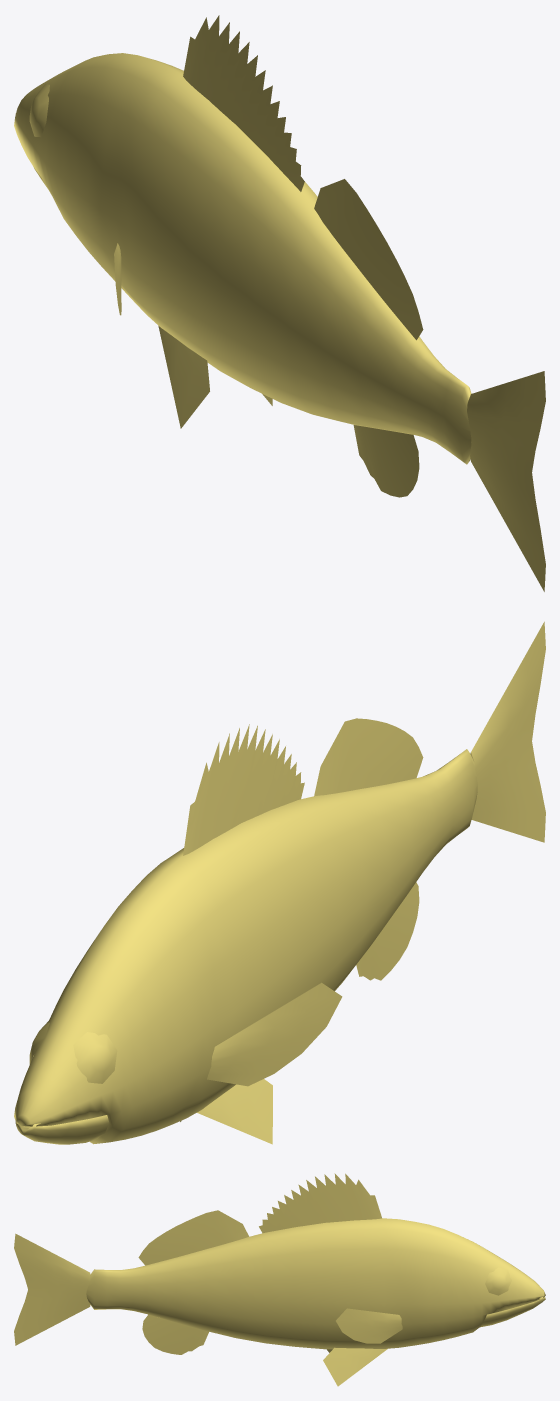
File: yellow_perch_lo.glb
3 renders of one model, top to bottom at view 1: azimuth 30°, elevation 25°; view 2: azimuth 150°, elevation 25°; view 3: azimuth 270°, elevation 25°, orthographic. The views are drawn at different scales.
Parts seen in each view (by area): view 1: yellow_perch_lo; view 2: yellow_perch_lo; view 3: yellow_perch_lo.
Part boxes in pixels (box(x1,y1,x2,y2)): yellow_perch_lo: box(14, 15, 545, 591); yellow_perch_lo: box(14, 621, 545, 1144); yellow_perch_lo: box(14, 1173, 545, 1386).
Bounding box in the file's own units: 0.0739 × 0.124 × 0.2959.
